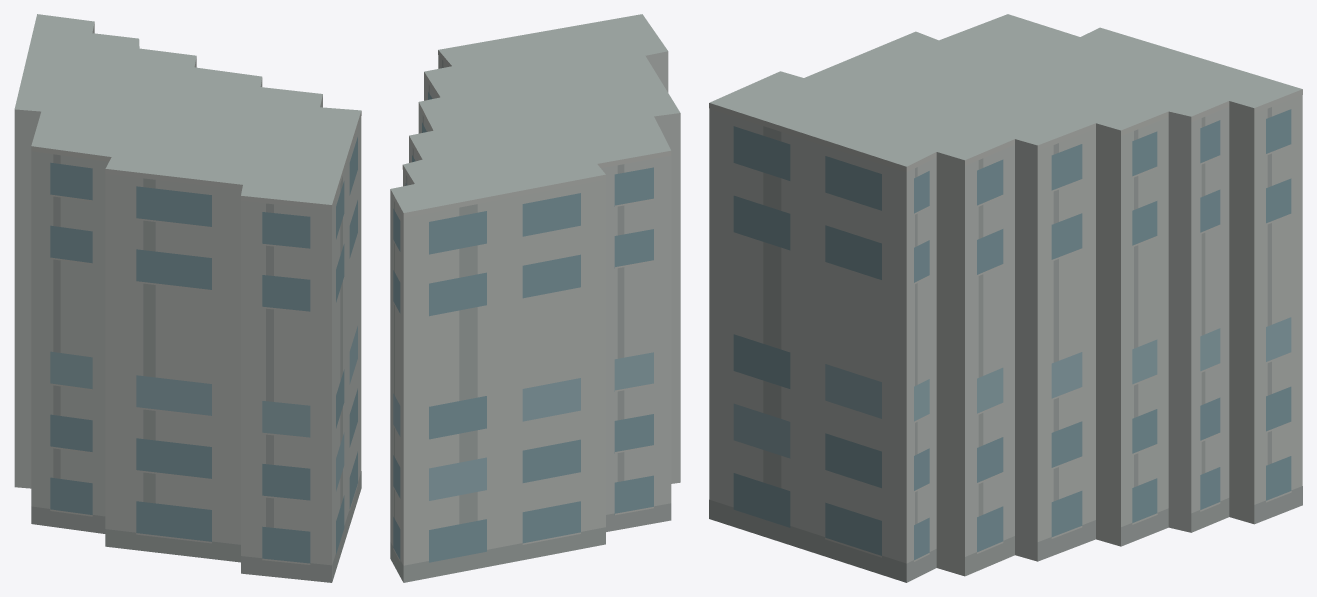
The model's file is survey-upis-32811011.glb.
The picture shows the model from 3 angles, left to right: view 1: azimuth 30°, elevation 25°; view 2: azimuth 150°, elevation 25°; view 3: azimuth 270°, elevation 25°; orthographic projection. The views are drawn at different scales.
Parts seen in each view (by area): view 1: survey-upis-32811011.tmp; view 2: survey-upis-32811011.tmp; view 3: survey-upis-32811011.tmp.
Part boxes in pixels (x1,y1,x2,y2): survey-upis-32811011.tmp: [14, 14, 361, 582]; survey-upis-32811011.tmp: [390, 14, 680, 582]; survey-upis-32811011.tmp: [709, 14, 1302, 582].
Bounding box in the file's own units: 14.02 × 17.8 × 23.02.
